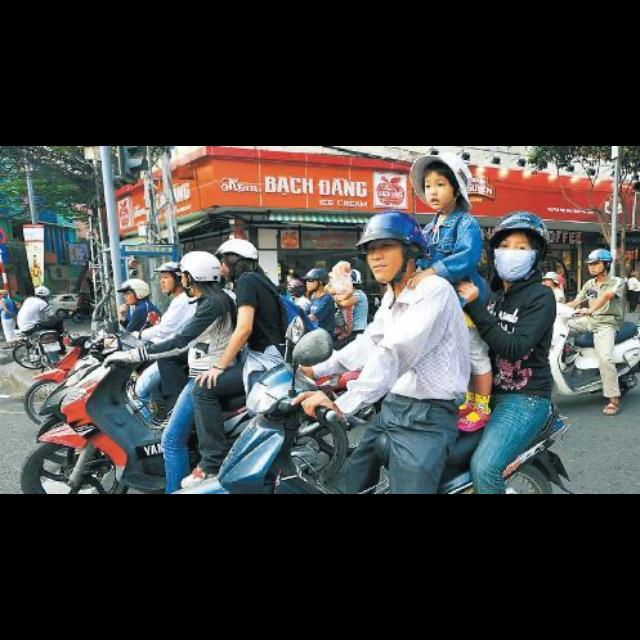With Helmet: (356, 206, 430, 290), (170, 245, 224, 309), (584, 242, 614, 280)
